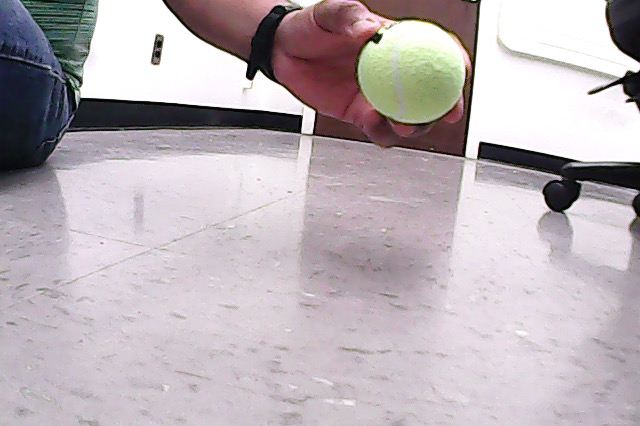ball: (358, 18, 466, 125)
